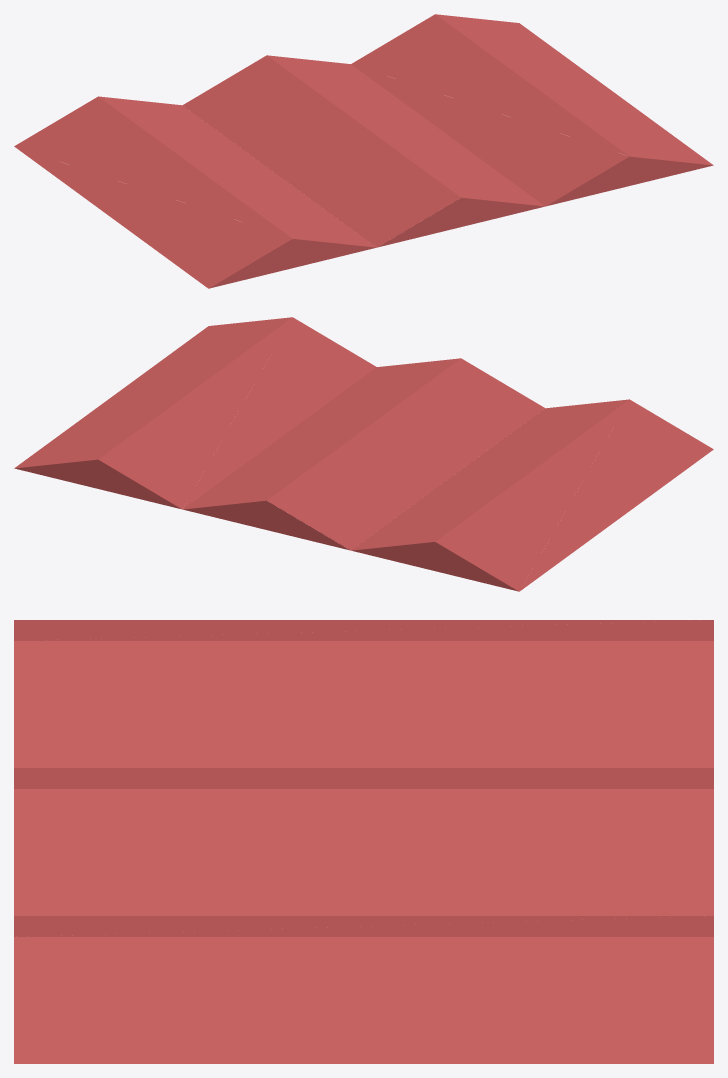
The model's file is km2_ukishima.glb.
3 renders of one model, top to bottom at view 1: azimuth 30°, elevation 25°; view 2: azimuth 150°, elevation 25°; view 3: azimuth 270°, elevation 25°, orthographic. The views are drawn at different scales.
Parts seen in each view (by area): view 1: km2_ukishima_col; view 2: km2_ukishima_col; view 3: km2_ukishima_col.
Boxes of the visible parts, x1,y1,x2,y2 form: km2_ukishima_col: [14, 14, 713, 288]; km2_ukishima_col: [14, 317, 713, 591]; km2_ukishima_col: [14, 620, 713, 1063].
Bounding box in the file's own units: 1.8 × 0.1003 × 1.2.
